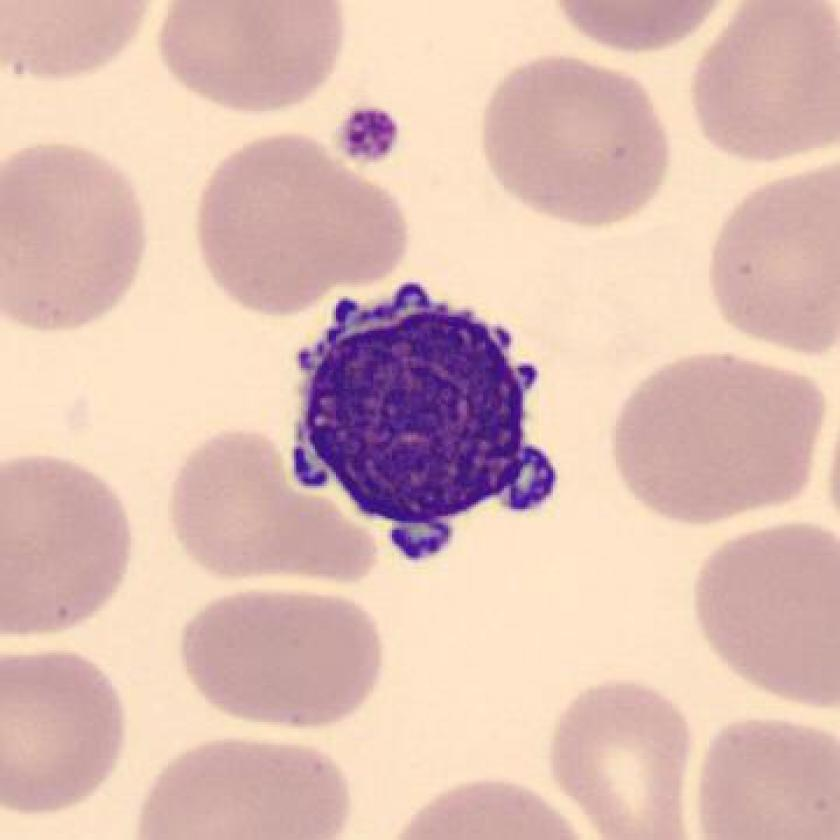lymphocyte: (267, 256, 573, 580)
platelets: (334, 102, 410, 175)
